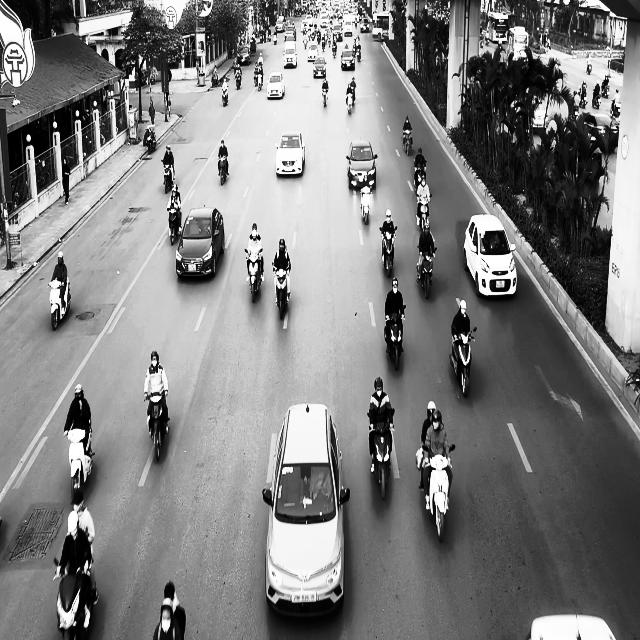bus: (486, 11, 510, 45), (372, 12, 389, 40)
car: (262, 402, 350, 619), (463, 213, 517, 298), (175, 206, 225, 278), (528, 614, 616, 640), (346, 140, 378, 190), (581, 113, 619, 151), (275, 130, 305, 177), (266, 72, 285, 98), (282, 45, 298, 68), (340, 49, 355, 70), (313, 55, 326, 78)
motorbike: (52, 554, 97, 640), (420, 443, 454, 542), (367, 410, 394, 500), (64, 424, 94, 502), (449, 326, 476, 397), (144, 391, 169, 462), (384, 310, 405, 370), (48, 276, 71, 330), (244, 247, 264, 302), (416, 246, 436, 299), (272, 263, 290, 320), (379, 226, 397, 277), (416, 194, 432, 232), (167, 205, 181, 245), (360, 181, 372, 225), (162, 161, 174, 193), (217, 155, 229, 185), (145, 126, 156, 153), (403, 128, 412, 155), (346, 87, 354, 114), (592, 90, 601, 109), (322, 82, 328, 107), (256, 70, 263, 91), (222, 85, 228, 106), (235, 69, 241, 89)
